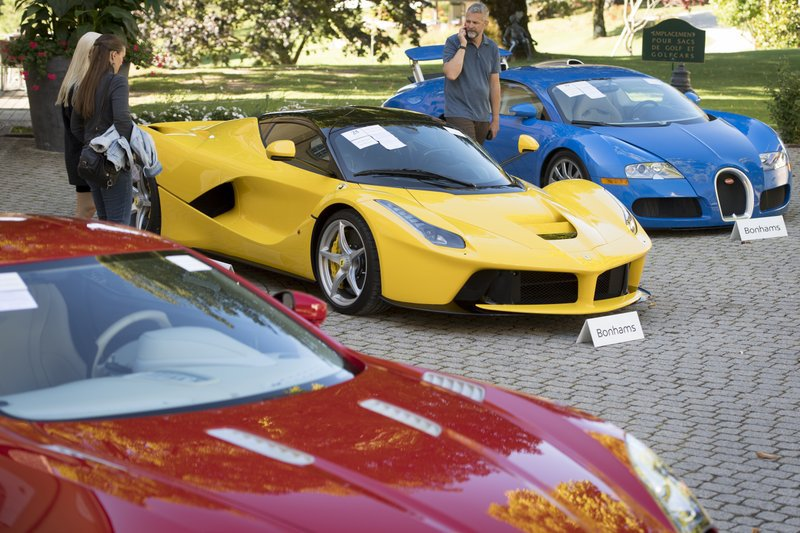car: (2, 215, 718, 529), (112, 80, 645, 334), (386, 34, 793, 223)
